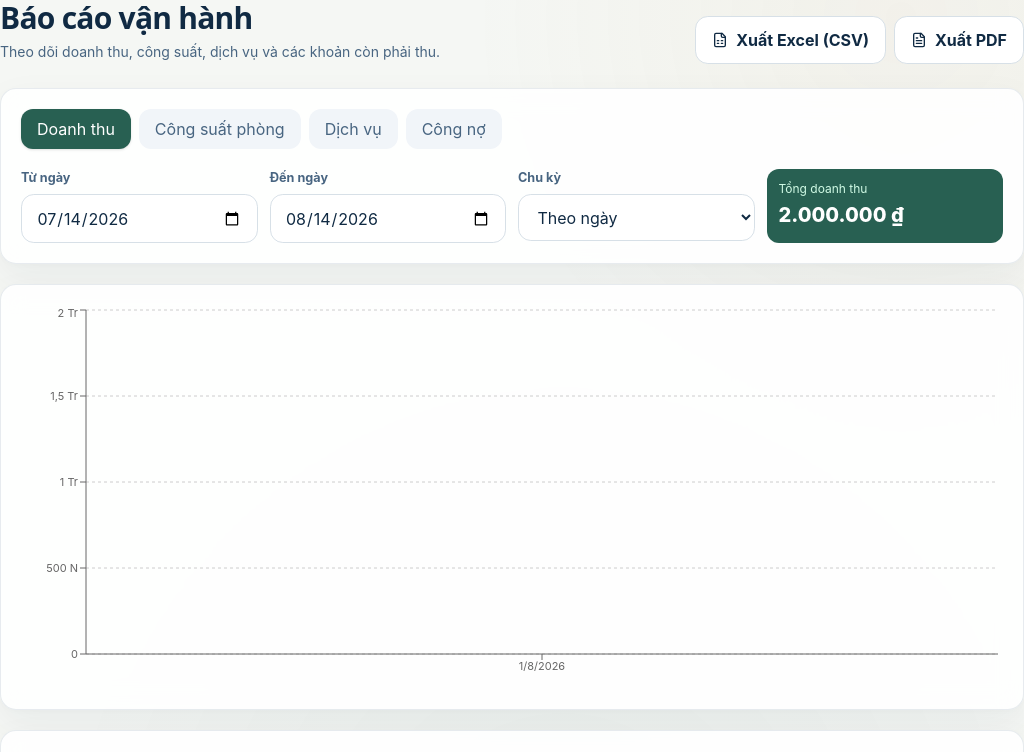
Test: ReportsPage › switches from revenue to the occupancy report
The image size is (1024, 752).
Click the tab "Công suất phòng".
click(220, 129)  # box [139, 109, 301, 149]
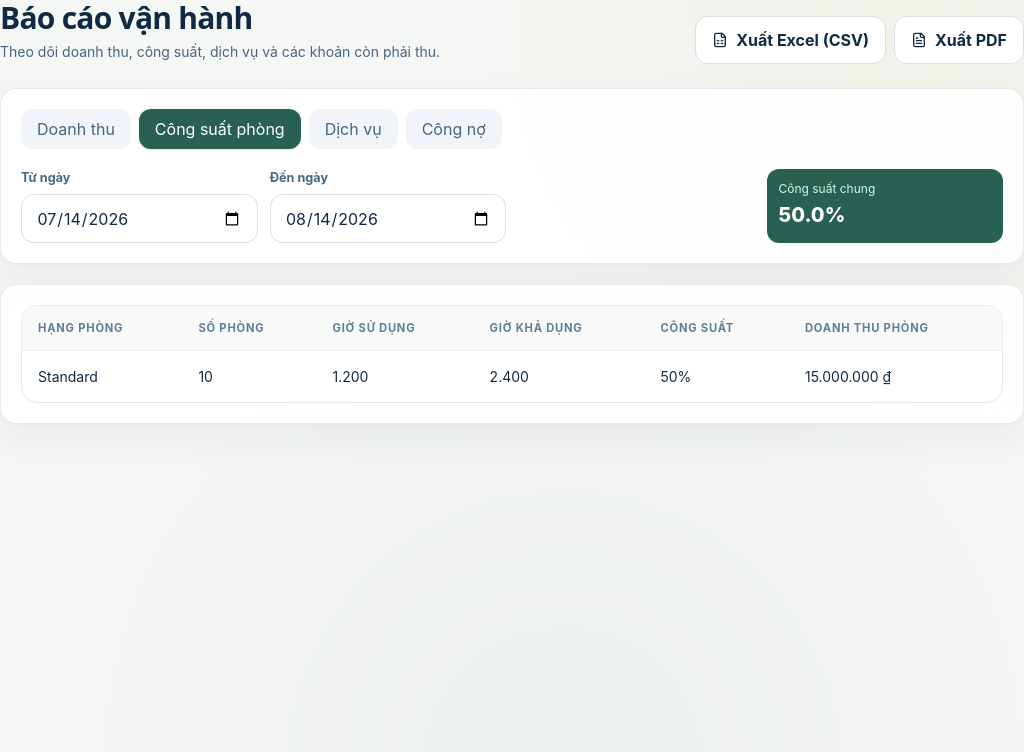
Check: the text "Standard" is shown, box [22, 351, 182, 402]
Check: the text "50%" is shown, box [644, 351, 789, 402]
